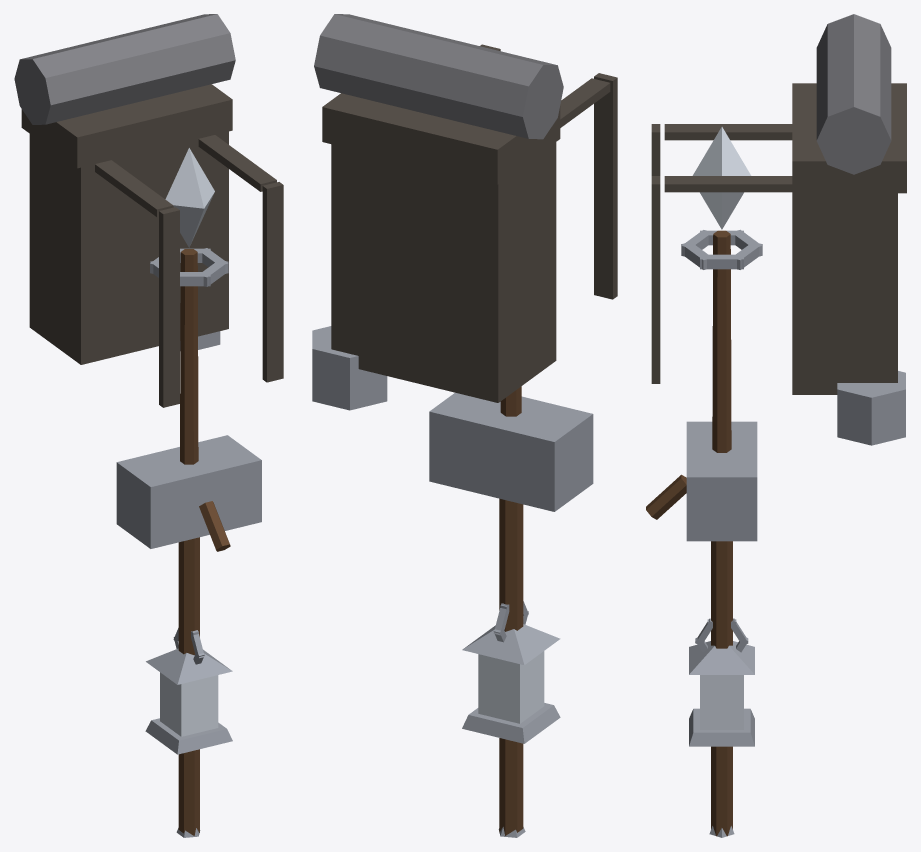
File: NPC_Prop.obj
3 renders of one model, left to right at view 1: azimuth 30°, elevation 25°; view 2: azimuth 150°, elevation 25°; view 3: azimuth 270°, elevation 25°, orthographic. The views are drawn at different scales.
Visible parts, largest first — view 1: NPC_Prop_Backpack, NPC_Prop_Hammer, NPC_Prop_Staff, NPC_Prop_Lantern, NPC_Prop_Cane; view 2: NPC_Prop_Backpack, NPC_Prop_Hammer, NPC_Prop_Lantern, NPC_Prop_Staff; view 3: NPC_Prop_Backpack, NPC_Prop_Hammer, NPC_Prop_Staff, NPC_Prop_Lantern, NPC_Prop_Cane.
Part boxes in pixels (x1,y1,x2,y2): NPC_Prop_Backpack: (14, 14, 283, 407); NPC_Prop_Hammer: (116, 435, 261, 835); NPC_Prop_Staff: (150, 148, 228, 837); NPC_Prop_Lantern: (145, 628, 232, 754); NPC_Prop_Cane: (199, 501, 230, 551); NPC_Prop_Backpack: (312, 14, 617, 410); NPC_Prop_Hammer: (429, 392, 593, 835); NPC_Prop_Lantern: (462, 601, 560, 743); NPC_Prop_Staff: (498, 386, 525, 837); NPC_Prop_Backpack: (651, 14, 906, 445); NPC_Prop_Hammer: (686, 421, 757, 836); NPC_Prop_Staff: (681, 127, 762, 837); NPC_Prop_Lantern: (689, 618, 754, 746); NPC_Prop_Cane: (646, 474, 686, 519).
Bounding box in the file's own units: 0.53 × 1.94 × 0.5922.
